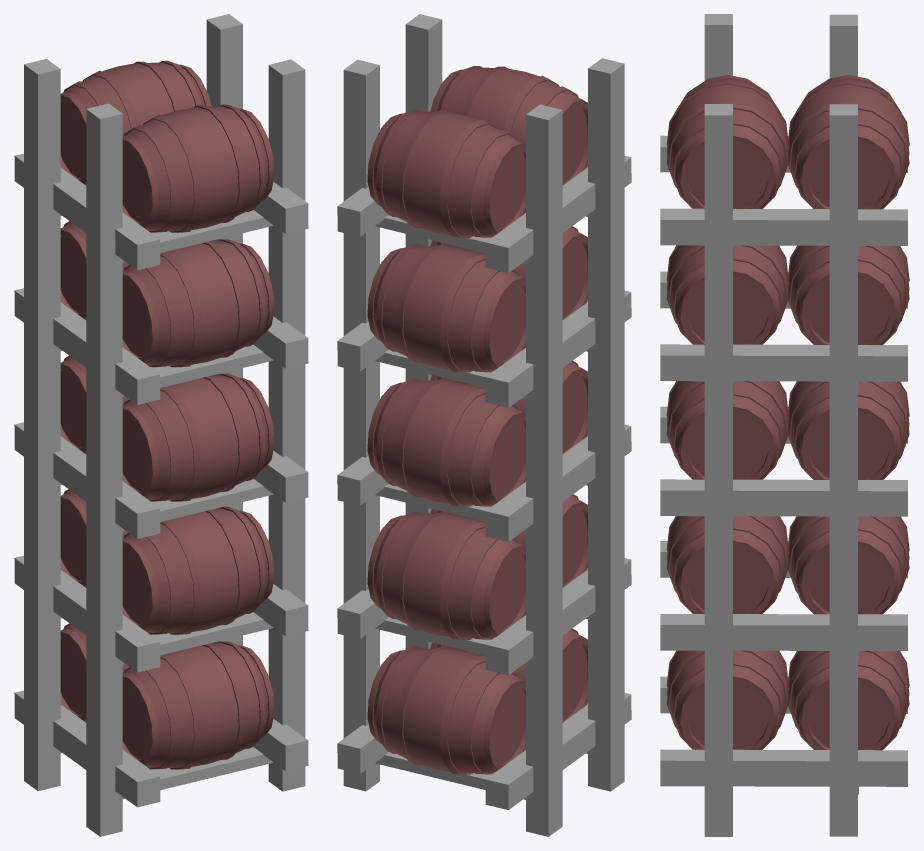
Rendered from Estante Barril com Barris.fbx.
The picture shows the model from 3 angles, left to right: view 1: azimuth 30°, elevation 25°; view 2: azimuth 150°, elevation 25°; view 3: azimuth 270°, elevation 25°; orthographic projection.
Parts seen in each view (by area): view 1: Estante_Barril, Barril1, Barril8, Barril3, Barril4, Barril6, Barril, Barril2, Barril9, Barril5, Barril7; view 2: Estante_Barril, Barril, Barril2, Barril9, Barril5, Barril7, Barril1, Barril8, Barril3, Barril4, Barril6; view 3: Estante_Barril, Barril, Barril1, Barril3, Barril8, Barril2, Barril9, Barril5, Barril4, Barril7, Barril6.
Part boxes in pixels (x1,y1,x2,y2): Estante_Barril: (14,14,308,836); Barril1: (122,104,274,232); Barril8: (122,641,274,769); Barril3: (122,239,274,367); Barril4: (122,373,274,501); Barril6: (122,506,274,634); Barril: (60,60,211,185); Barril2: (60,221,211,320); Barril9: (60,623,210,722); Barril5: (60,355,129,454); Barril7: (60,489,128,587); Estante_Barril: (337,14,631,836); Barril: (367,109,525,237); Barril2: (367,244,525,372); Barril9: (367,646,525,774); Barril5: (367,378,525,506); Barril7: (367,511,525,639); Barril1: (430,66,587,185); Barril8: (430,628,587,722); Barril3: (430,226,587,319); Barril4: (430,361,587,453); Barril6: (430,494,587,587); Estante_Barril: (660,14,907,836); Barril: (788,75,909,209); Barril1: (666,75,787,208); Barril3: (666,245,787,344); Barril8: (666,650,787,749); Barril2: (788,245,909,344); Barril9: (788,651,909,750); Barril5: (788,381,909,479); Barril4: (666,381,787,479); Barril7: (788,516,909,614); Barril6: (666,516,787,613).
Size of the model in its own units: 16.18 by 54.1 by 16.91.
